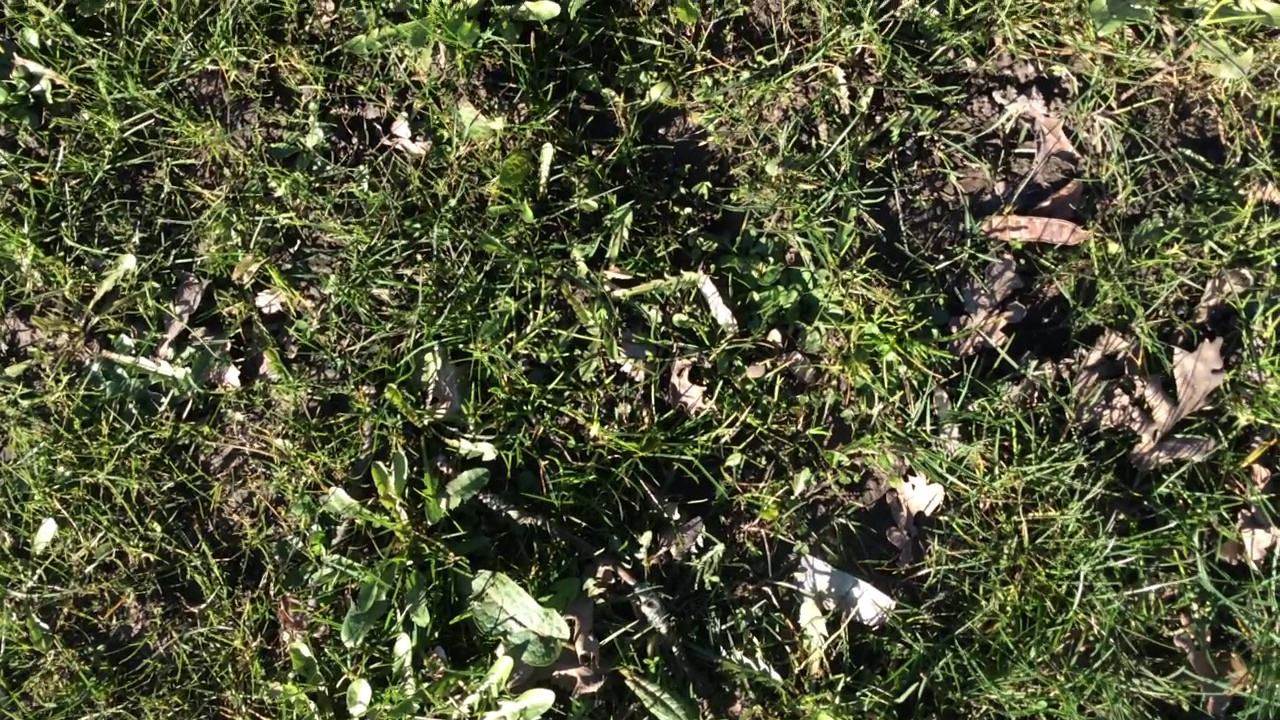rumex: (458, 568, 569, 668), (616, 670, 690, 720)
